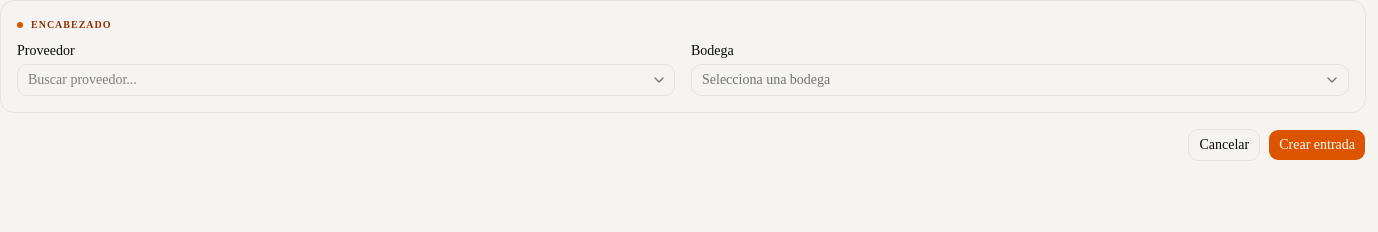
it: NuevaEntradaMercanciaForm › shows the server error and does not navigate when the action refuses an otherwise valid submission
Step 1. Click the dropdown labelled "Proveedor" → [346, 80], box [17,64,675,96]
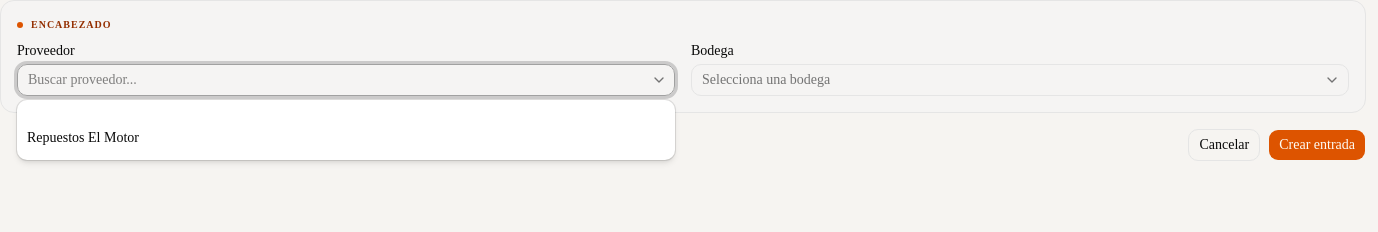
Step 2. Click the option "Repuestos El Motor" → [83, 138], box [27,130,139,145]
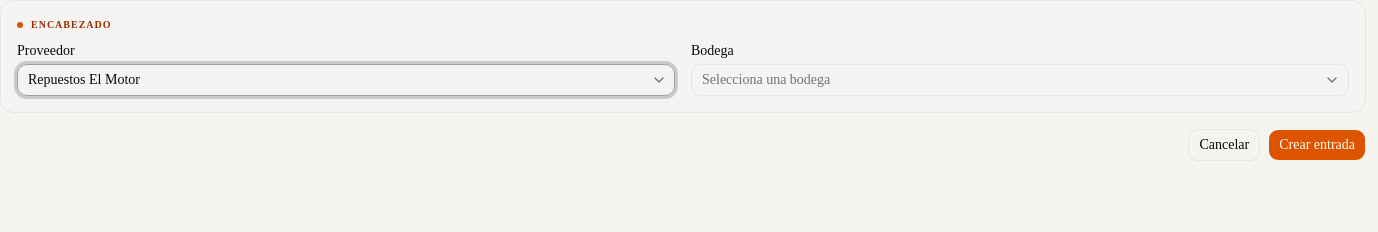
Step 3. Click the dropdown labelled "bodega" → [766, 80], box [691,64,1349,96]
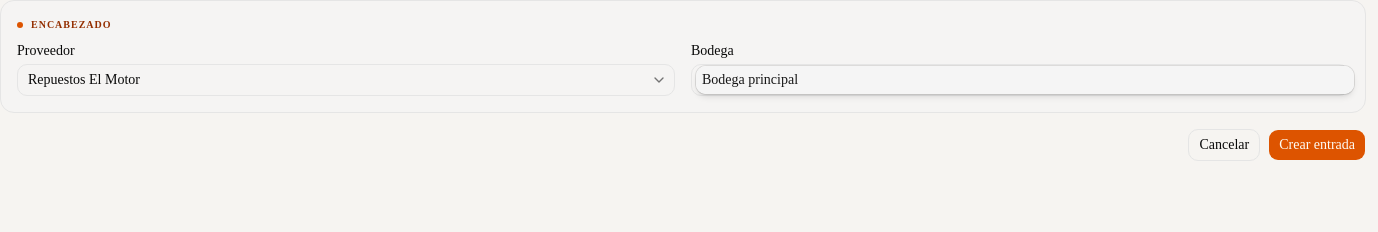
Step 4. Click the option "Bodega principal" → [750, 80], box [696,66,1354,94]
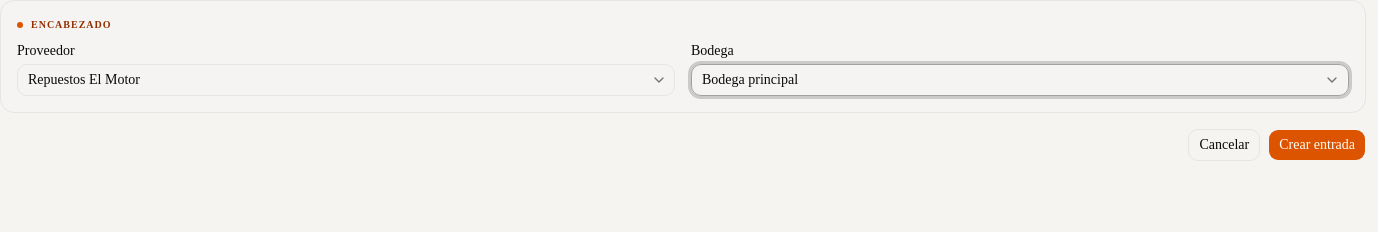
Step 5. Click the button "Crear entrada" → [1317, 145], box [1268,129,1366,161]
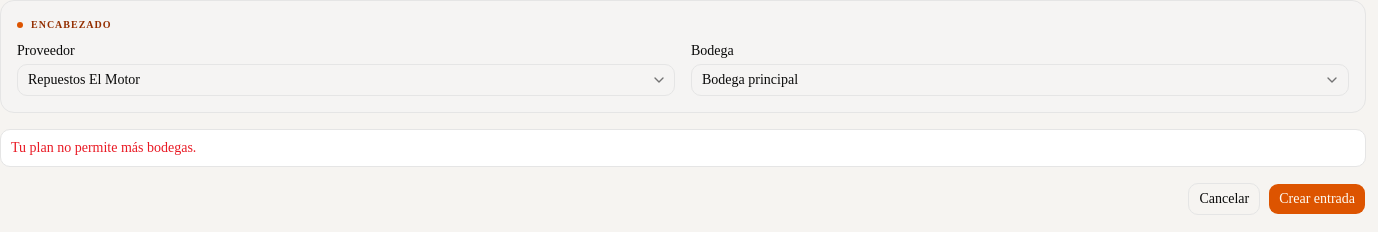
Expected: the message reads "Tu plan no permite más bodegas.", [11,140,196,155]
